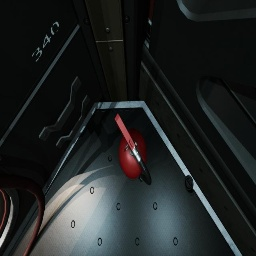FireExtinguisher ]: (114, 113, 152, 185)
